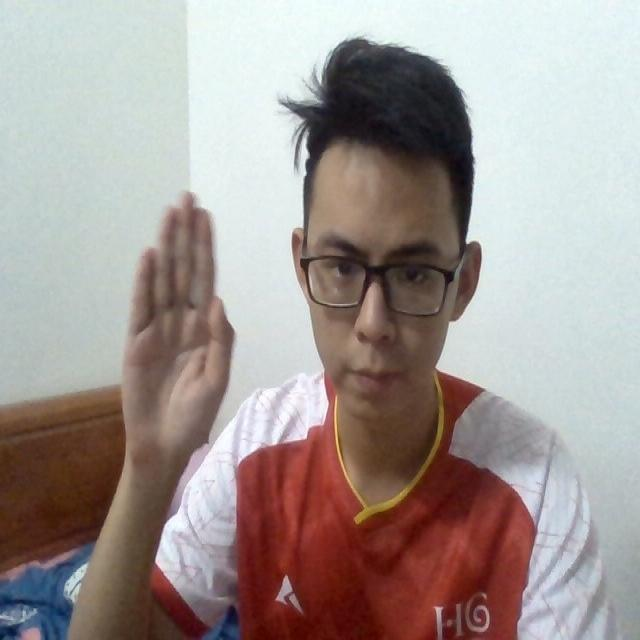B: (106, 188, 242, 448)
